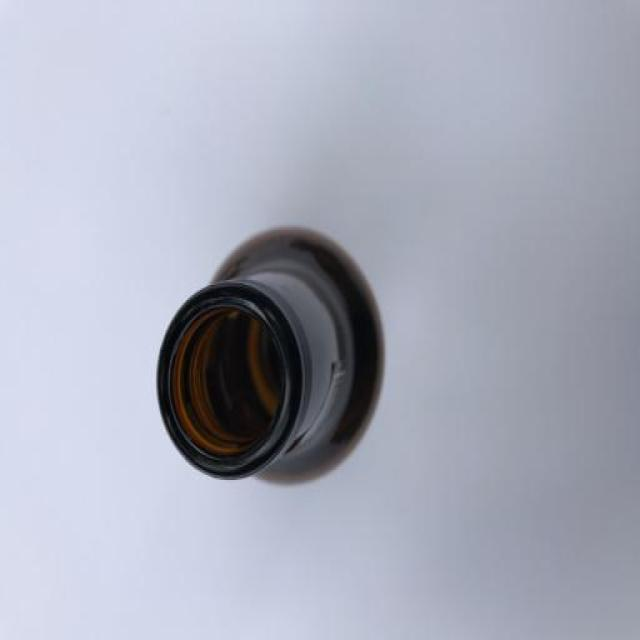glass: (149, 221, 405, 505)
